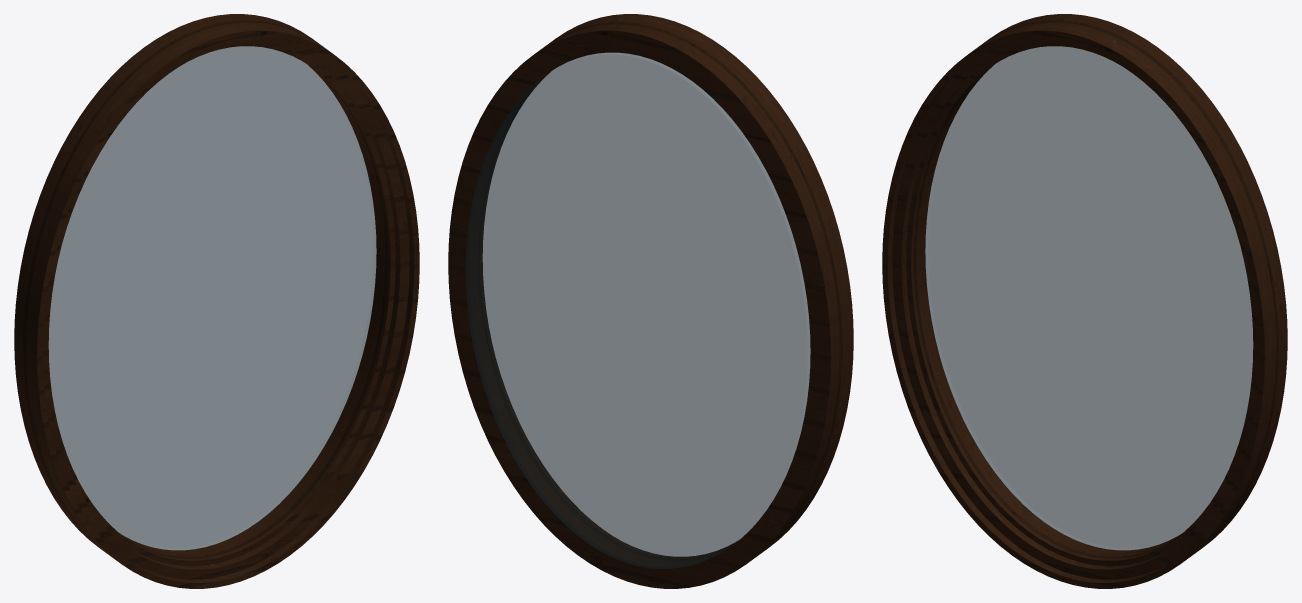
File: madera_ellipse.glb
The picture shows the model from 3 angles, left to right: view 1: azimuth 30°, elevation 25°; view 2: azimuth 150°, elevation 25°; view 3: azimuth 330°, elevation 25°; orthographic projection.
Parts seen in each view (by area): view 1: window_glass#0001, window_reveal#0001, window_profile#0020, window_profile#0009, window_profile#0010, window_profile#0017, window_profile#0001, window_profile#0011, window_profile#0019, window_profile#0018, window_profile#0012, window_profile#0002 (+10 smaller); view 2: window_glass#0001, window_reveal#0001, window_profile#0020, window_profile#0001; view 3: window_glass#0001, window_reveal#0001, window_profile#0020, window_profile#0009, window_profile#0010, window_profile#0001, window_profile#0017, window_profile#0011, window_profile#0019, window_profile#0018, window_profile#0012, window_profile#0002 (+10 smaller).
Part boxes in pixels (left/top/right/bottom): window_glass#0001: left=48, top=46, right=376, bottom=550; window_reveal#0001: left=14, top=14, right=389, bottom=559; window_profile#0020: left=25, top=22, right=419, bottom=588; window_profile#0009: left=45, top=41, right=402, bottom=571; window_profile#0010: left=43, top=38, right=404, bottom=574; window_profile#0017: left=41, top=35, right=415, bottom=584; window_profile#0001: left=47, top=45, right=391, bottom=561; window_profile#0011: left=42, top=36, right=407, bottom=577; window_profile#0019: left=38, top=32, right=418, bottom=587; window_profile#0018: left=40, top=33, right=416, bottom=585; window_profile#0012: left=67, top=37, right=409, bottom=579; window_profile#0002: left=49, top=43, right=393, bottom=563; window_glass#0001: left=465, top=52, right=810, bottom=568; window_reveal#0001: left=448, top=21, right=843, bottom=588; window_profile#0020: left=549, top=14, right=853, bottom=553; window_profile#0001: left=480, top=80, right=729, bottom=558; window_glass#0001: left=925, top=46, right=1253, bottom=550; window_reveal#0001: left=913, top=14, right=1287, bottom=559; window_profile#0020: left=882, top=22, right=1276, bottom=588; window_profile#0009: left=899, top=41, right=1256, bottom=571; window_profile#0010: left=897, top=38, right=1258, bottom=574; window_profile#0001: left=910, top=45, right=1254, bottom=561; window_profile#0017: left=886, top=35, right=1260, bottom=584; window_profile#0011: left=894, top=36, right=1259, bottom=577; window_profile#0019: left=883, top=32, right=1263, bottom=587; window_profile#0018: left=885, top=33, right=1261, bottom=585; window_profile#0012: left=892, top=37, right=1234, bottom=579; window_profile#0002: left=908, top=43, right=1252, bottom=563.
Size of the model in its own units: 1.6 by 2.2 by 0.1855.
Materials: 2 (1 with a texture image).
